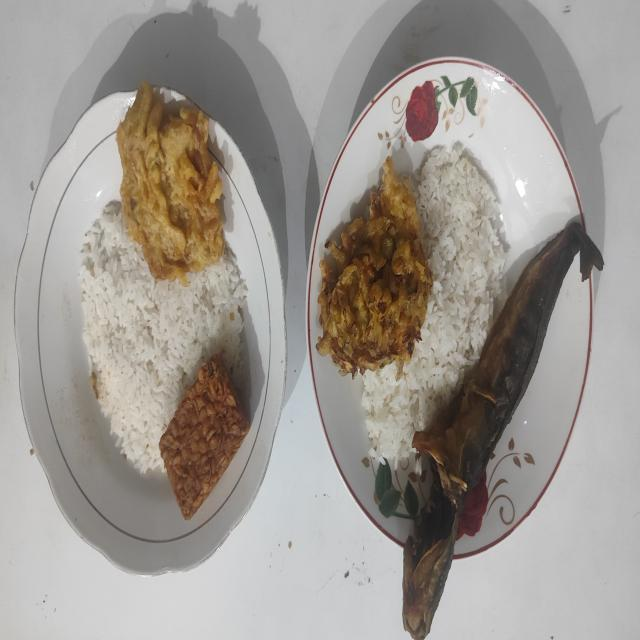nasi_putih: (362, 142, 506, 468), (78, 203, 247, 474)
tempe_goreng: (160, 356, 250, 520)
